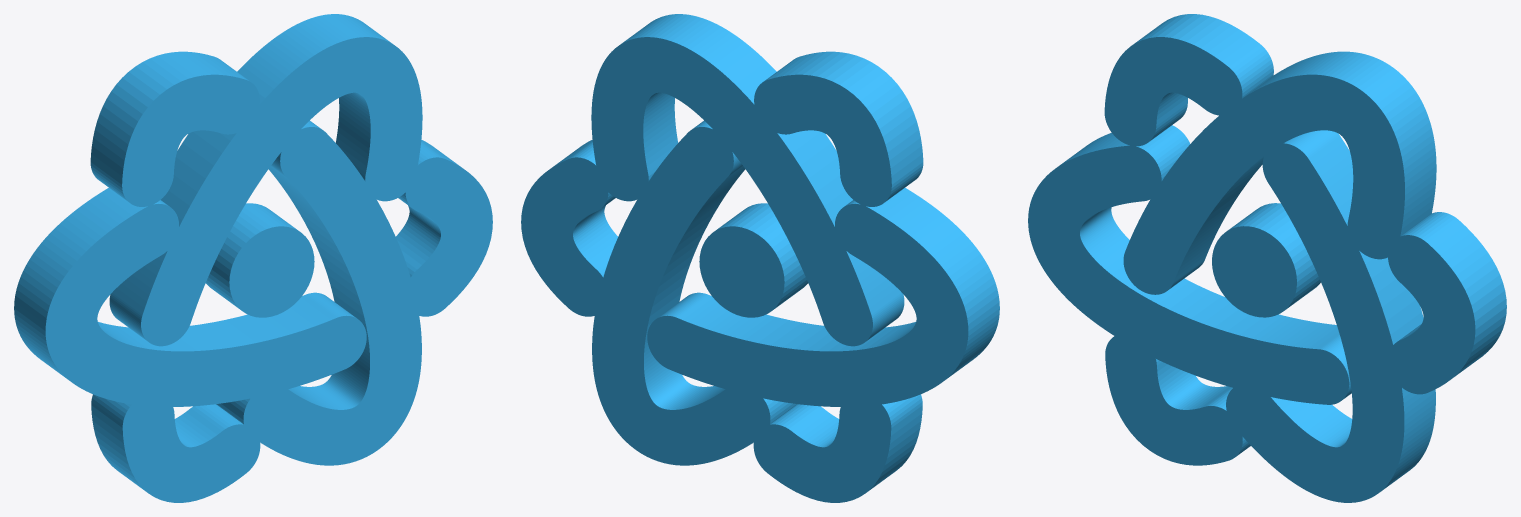
File: reactjs.glb
3 renders of one model, left to right at view 1: azimuth 30°, elevation 25°; view 2: azimuth 150°, elevation 25°; view 3: azimuth 330°, elevation 25°, orthographic.
Size of the model in its own units: 0.82 by 0.7427 by 0.1.
